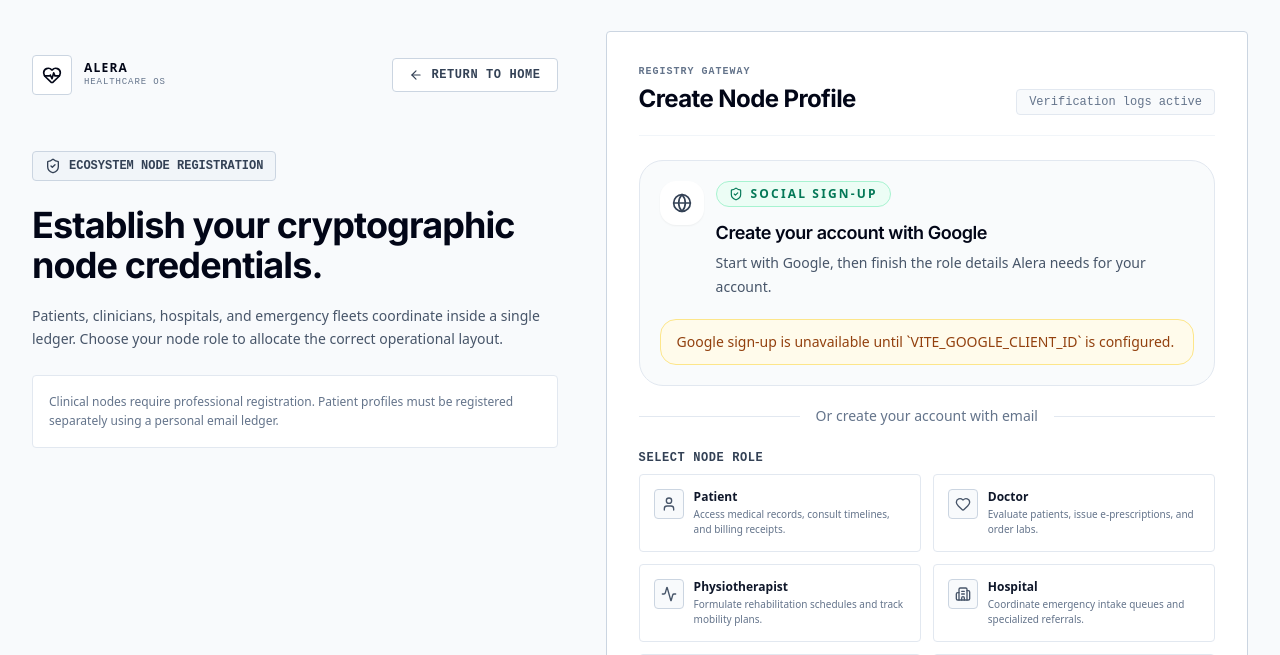
Signup page › shows professional license fields and excludes admin signup
Step 1. Click the button "Doctor" → [1074, 513], box [933,474,1215,552]
(page scrolled)
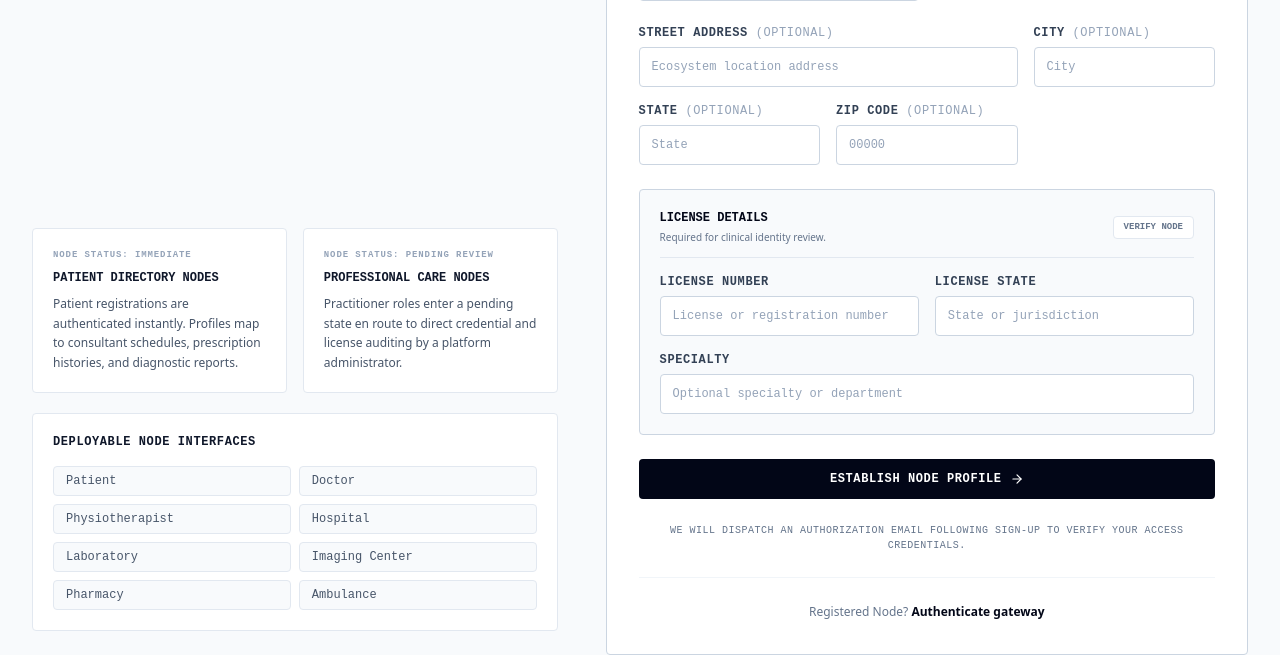
Expected: the text "License details" is shown, [660,211,768,225]
Expected: the field with placeholder "License or registration number" is shown, [660,296,919,336]
Expected: the field with placeholder "State or jurisdiction" is shown, [935,296,1194,336]
